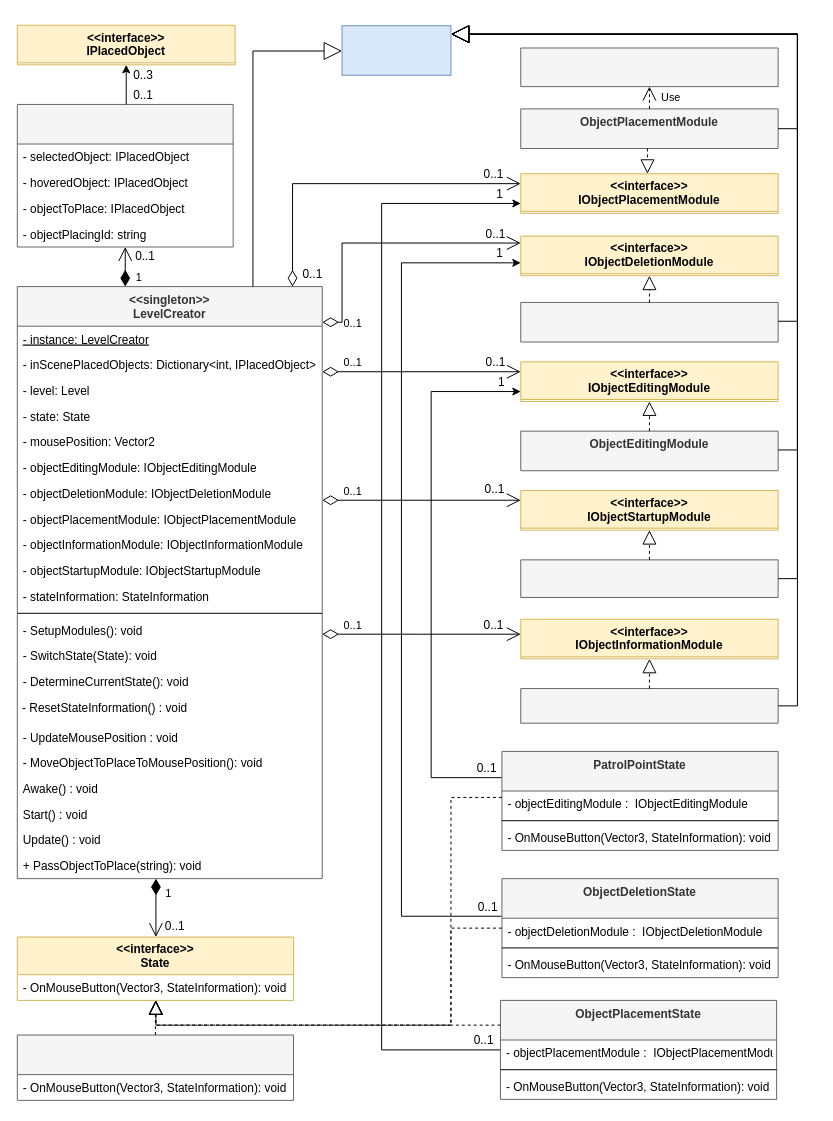
Some shapes in this 833 by 1121 pixel diagram are drawn without their labels. Here are the shapes that lost their labels. From the top down, the box of each, then its label:
(341, 25, 451, 75): MonoBehaviour
(520, 47, 778, 87): ObjectToDataConverter
(16, 103, 233, 247): StateInformation
(520, 301, 778, 342): ObjectDeletionModule
(520, 559, 778, 597): StartupModule
(520, 688, 778, 723): ObjectInformationModule
(16, 1034, 294, 1100): ObjectEditingState
